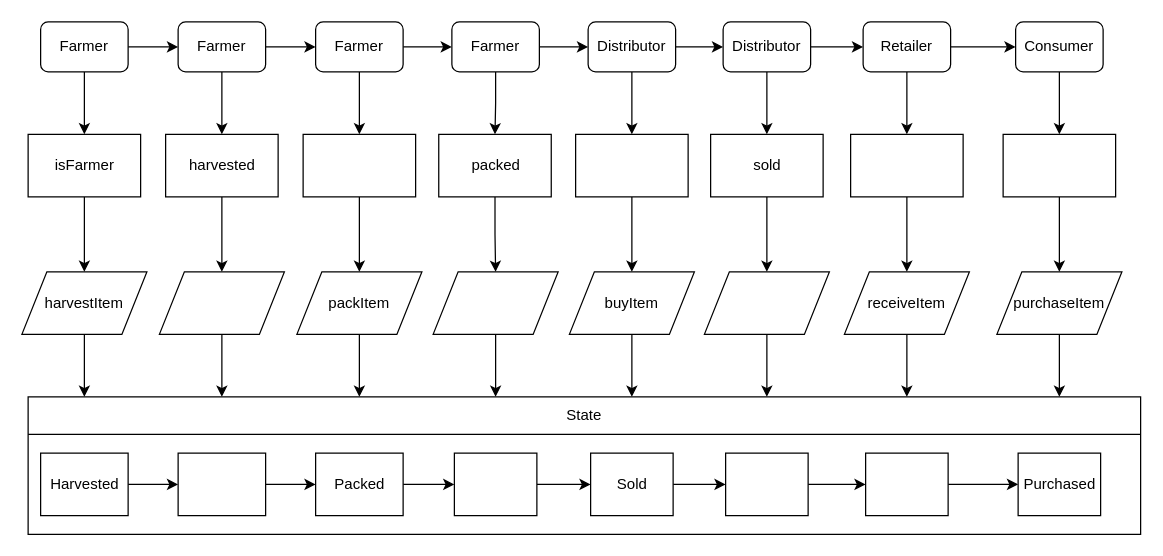
The diagram is 1163 pixels wide and 556 high, and some of its shapes have lost their labels. Each missing label, with the centre of its shape:
"ForSale" goes at point 495,484.
"forSale, paidEnough, checkValue" goes at point 631,165.
"proceeded" goes at point 359,165.
"Processed" goes at point 221,484.
"processItem" goes at point 221,302.
"Received" goes at point 906,484.
"received, onlyConsumer" goes at point 1059,165.
"sellItem" goes at point 495,302.
"shiipped, onlyRetailer" goes at point 906,165.
"shipItem" goes at point 766,302.
"Shipped" goes at point 766,484.
